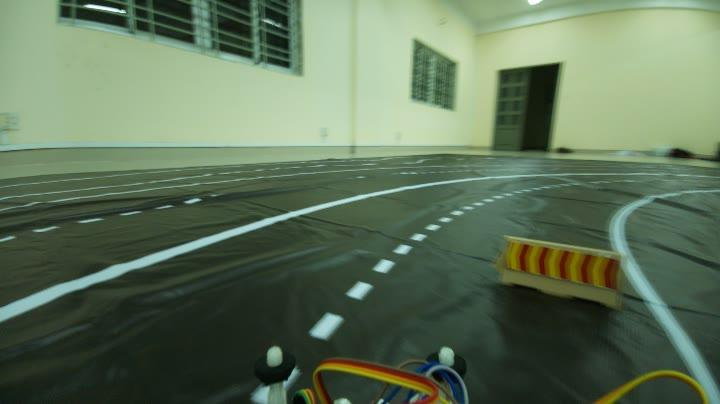roadblock: (492, 229, 622, 316)
